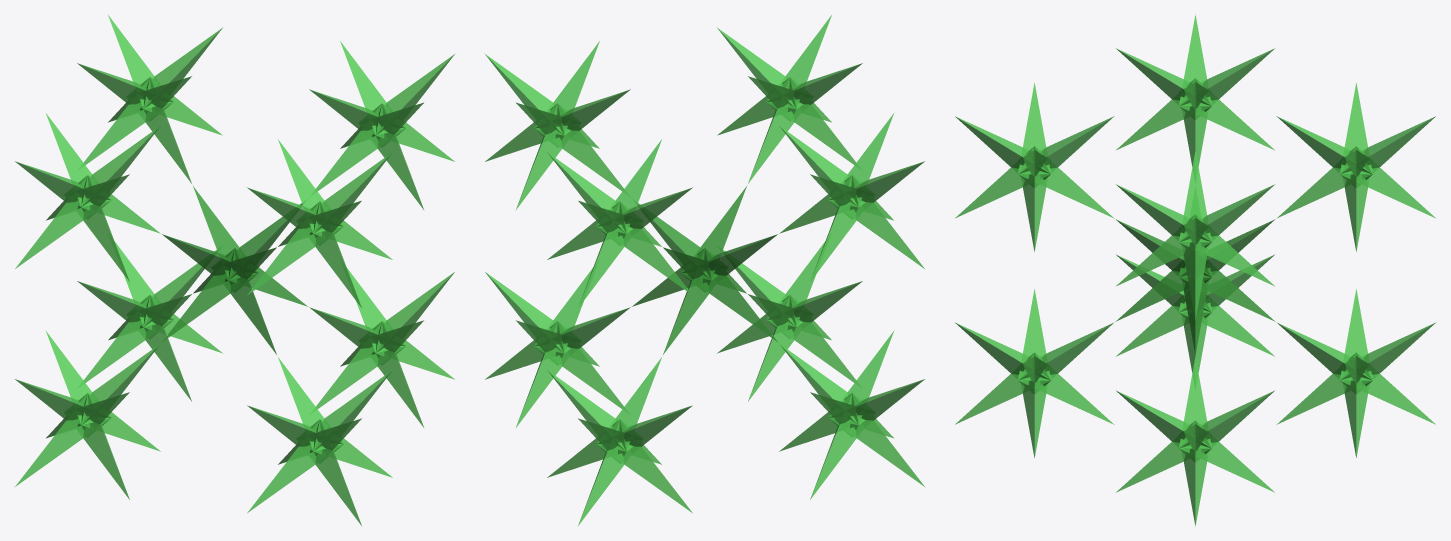
The model's file is fractalgreattriakisoctahedron1.glb.
3 views of the same model, side by side, from view 1: azimuth 30°, elevation 25°; view 2: azimuth 150°, elevation 25°; view 3: azimuth 270°, elevation 25° (orthographic). The views are drawn at different scales.
Bounding box in the file's own units: 10.17 × 7.19 × 10.17.
